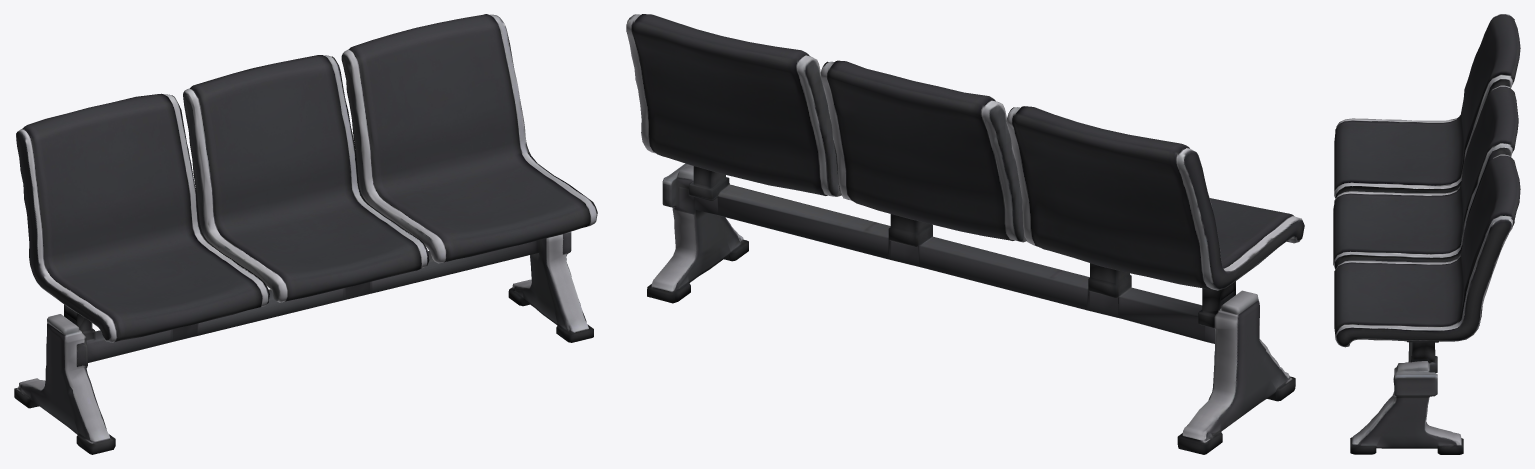
File: Bench.fbx
3 renders of one model, left to right at view 1: azimuth 30°, elevation 25°; view 2: azimuth 150°, elevation 25°; view 3: azimuth 270°, elevation 25°, orthographic. The views are drawn at different scales.
Visible parts, largest first — view 1: tripo_node_9b5ede51-ea81-491c-a16c-329d00c8d31f; view 2: tripo_node_9b5ede51-ea81-491c-a16c-329d00c8d31f; view 3: tripo_node_9b5ede51-ea81-491c-a16c-329d00c8d31f.
Part boxes in pixels (x1,y1,x2,y2): tripo_node_9b5ede51-ea81-491c-a16c-329d00c8d31f: (14, 14, 597, 454); tripo_node_9b5ede51-ea81-491c-a16c-329d00c8d31f: (626, 14, 1304, 454); tripo_node_9b5ede51-ea81-491c-a16c-329d00c8d31f: (1333, 14, 1520, 454).
Bounding box in the file's own units: 97.8 × 49.19 × 35.79.
1 material, 1 textured.
